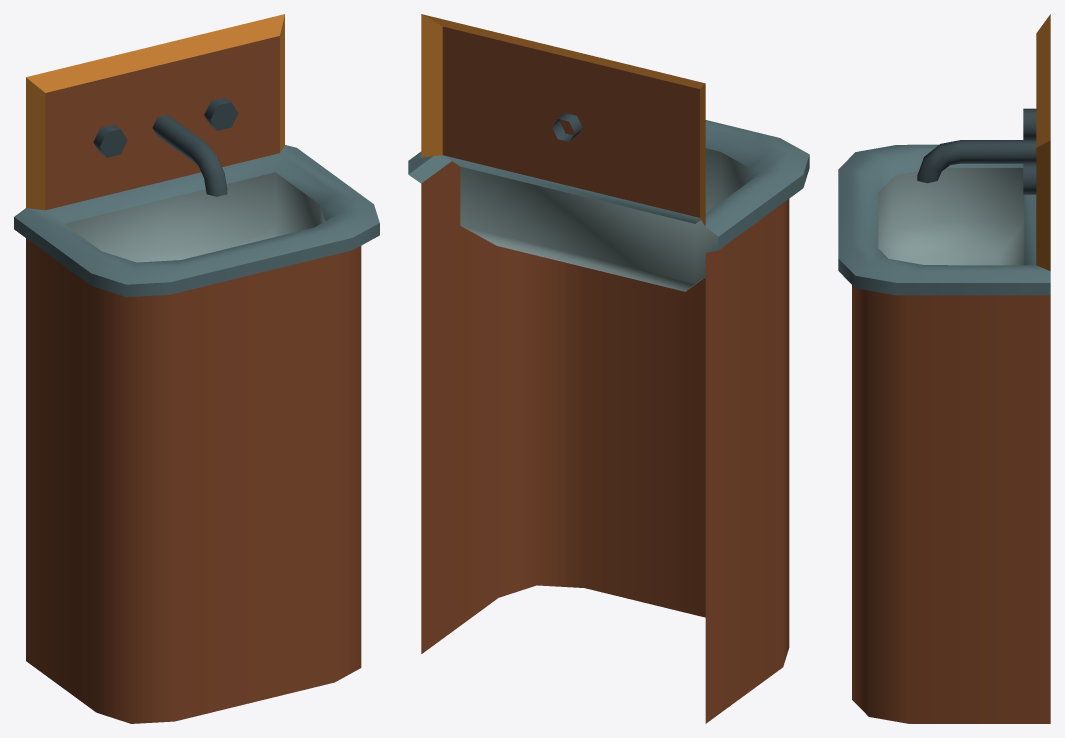
The model's file is SinkDinning.fbx.
3 views of the same model, side by side, from view 1: azimuth 30°, elevation 25°; view 2: azimuth 150°, elevation 25°; view 3: azimuth 270°, elevation 25° (orthographic). The views are drawn at different scales.
Parts seen in each view (by area): view 1: SinkDinning; view 2: SinkDinning; view 3: SinkDinning.
Part boxes in pixels (bbox=[...]): SinkDinning: bbox=[14, 14, 379, 723]; SinkDinning: bbox=[408, 14, 809, 723]; SinkDinning: bbox=[838, 14, 1050, 723].
Size of the model in its own units: 61.25 by 121 by 39.79.
